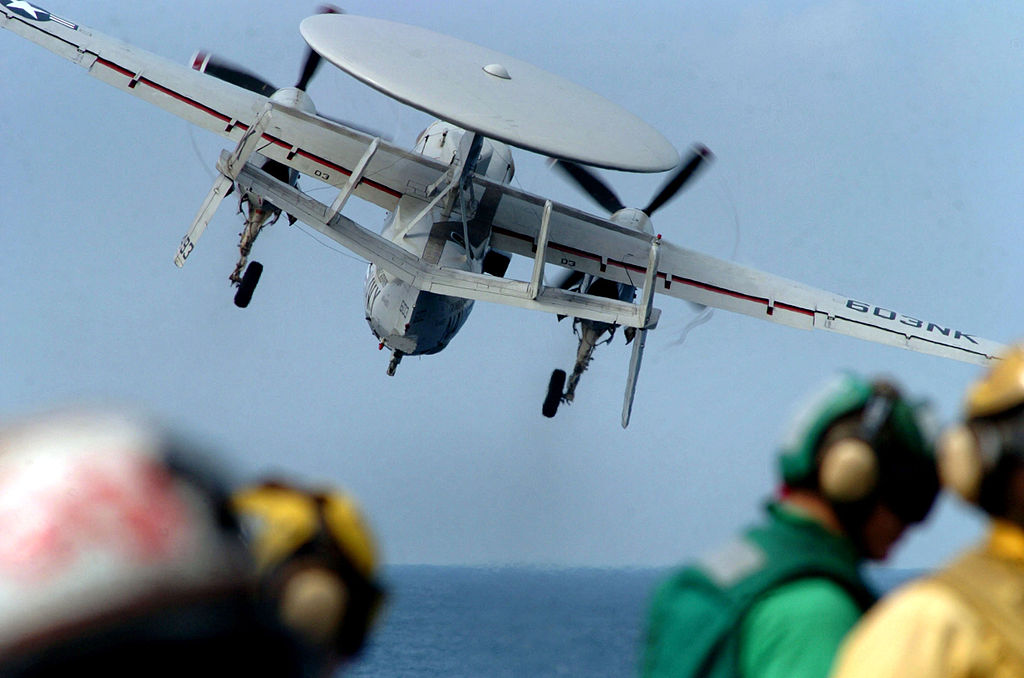E2: (1, 1, 1011, 430)
